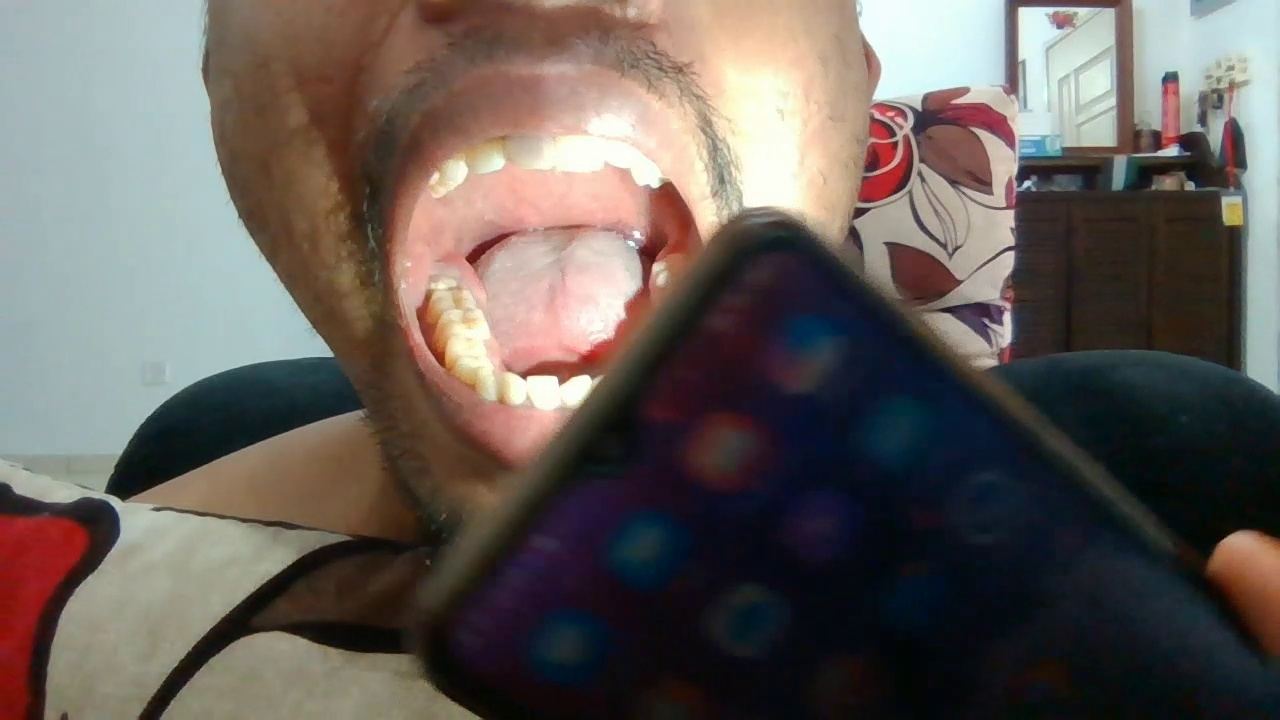1st Molar: (435, 305, 491, 335)
2nd Molar: (428, 287, 482, 307)
2nd Premolar: (445, 335, 488, 356)
3rd Molar: (648, 255, 684, 286), (425, 272, 462, 289)
Canine: (438, 155, 468, 197), (630, 154, 663, 190), (453, 355, 491, 380), (477, 366, 497, 403)
Central Incisor: (553, 134, 607, 174), (502, 133, 553, 171), (527, 374, 560, 410), (560, 374, 593, 410)
Lateral Incisor: (466, 140, 505, 175), (497, 372, 527, 407), (608, 139, 639, 170)
